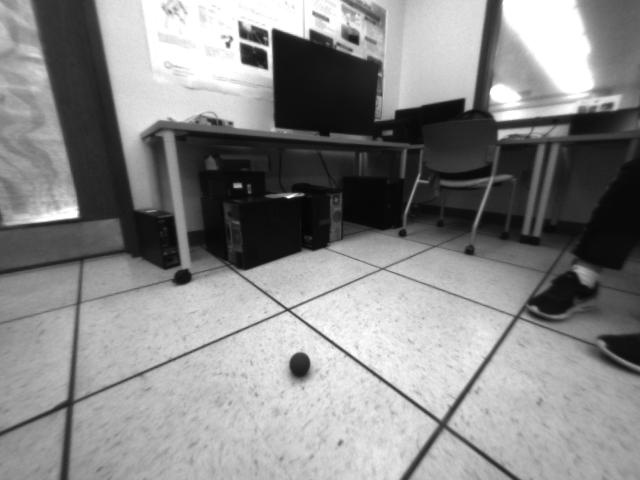dogtoy: (285, 345, 320, 380)
